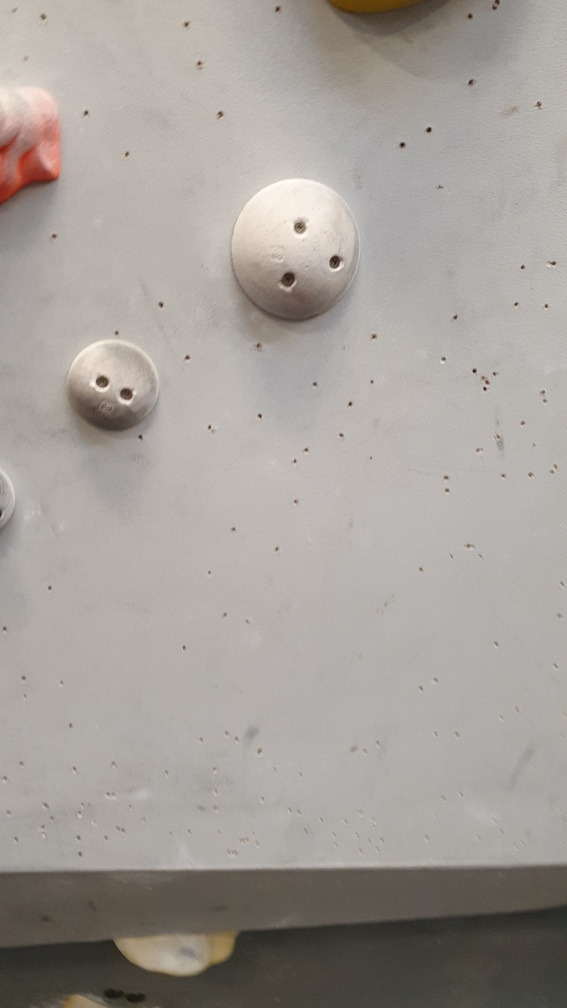Sloper: (231, 180, 365, 323), (64, 335, 159, 436)
